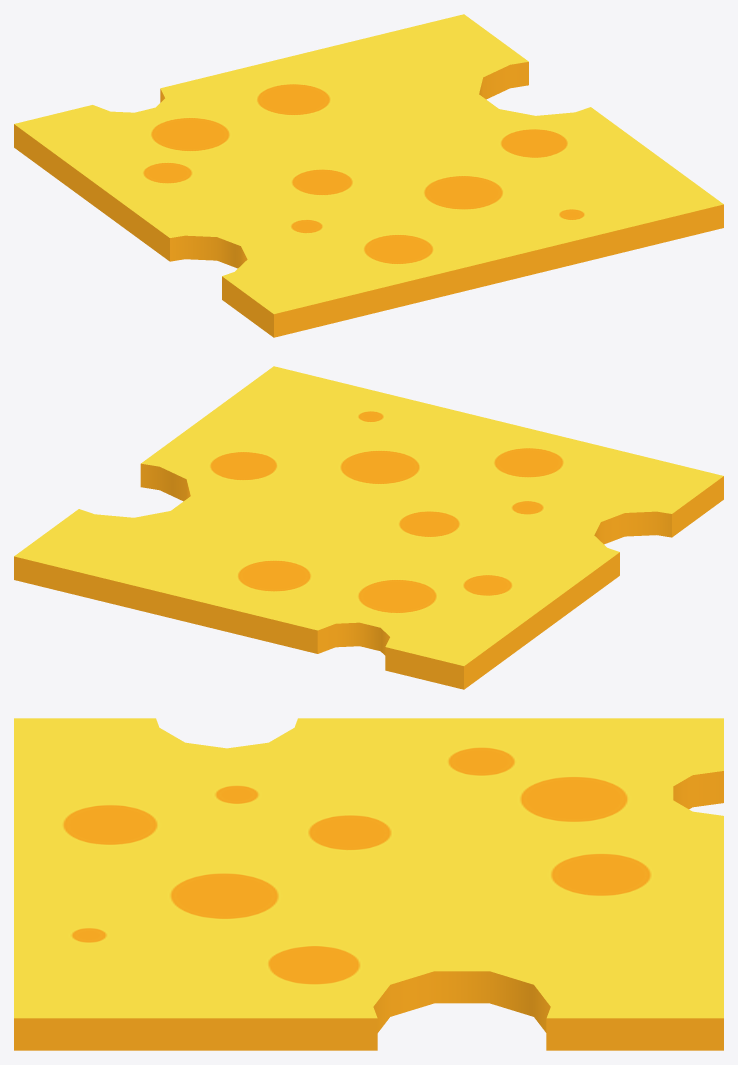
The model's file is cheese.glb.
The picture shows the model from 3 angles, top to bottom: view 1: azimuth 30°, elevation 25°; view 2: azimuth 150°, elevation 25°; view 3: azimuth 270°, elevation 25°; orthographic projection. The views are drawn at different scales.
Visible parts, largest first — view 1: Cheese_Slice; view 2: Cheese_Slice; view 3: Cheese_Slice.
Part boxes in pixels (x1,y1,x2,y2): Cheese_Slice: [14, 14, 723, 337]; Cheese_Slice: [14, 366, 723, 689]; Cheese_Slice: [14, 718, 723, 1050].
Bounding box in the file's own units: 0.2 × 0.01 × 0.2.
Materials: 1 (1 with a texture image).
